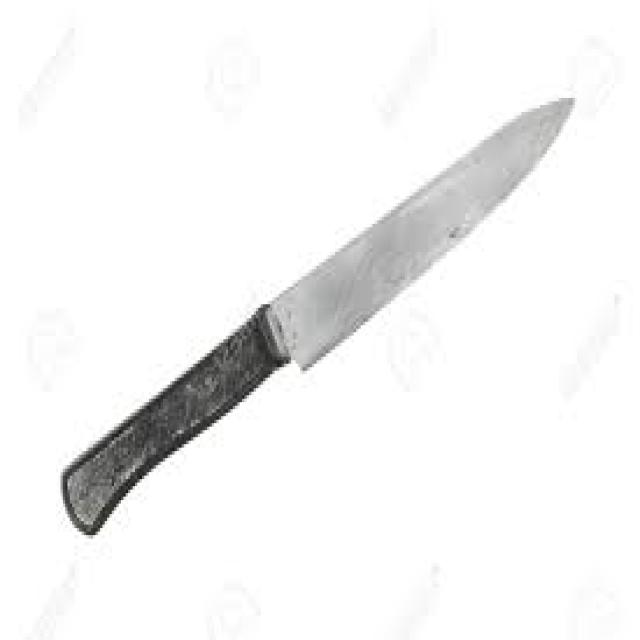Knife: (58, 91, 575, 535)
